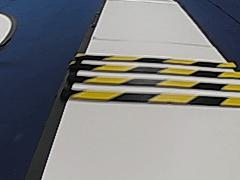bump: (64, 49, 239, 114)
